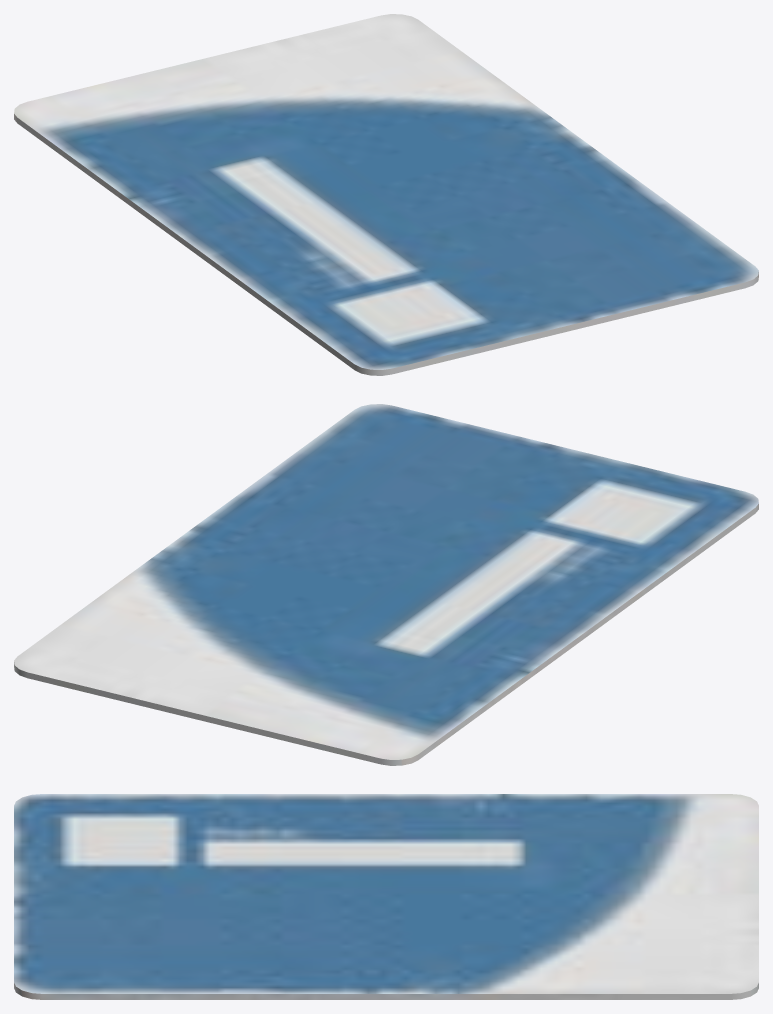
Rendered from keycard.glb.
3 views of the same model, one above another, from view 1: azimuth 30°, elevation 25°; view 2: azimuth 150°, elevation 25°; view 3: azimuth 270°, elevation 25° (orthographic). The views are drawn at different scales.
Visible parts, largest first — view 1: keycard; view 2: keycard; view 3: keycard.
Part boxes in pixels (bbox=[...]): keycard: bbox=[14, 14, 758, 375]; keycard: bbox=[14, 404, 758, 765]; keycard: bbox=[14, 794, 758, 999].
Bounding box in the file's own units: 0.1397 × 0.00197 × 0.22.
1 material, 1 textured.
